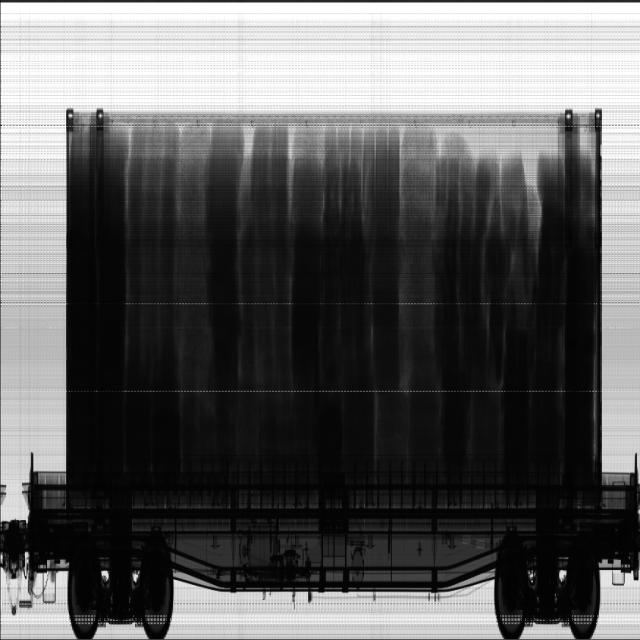textile: (68, 119, 594, 465)
